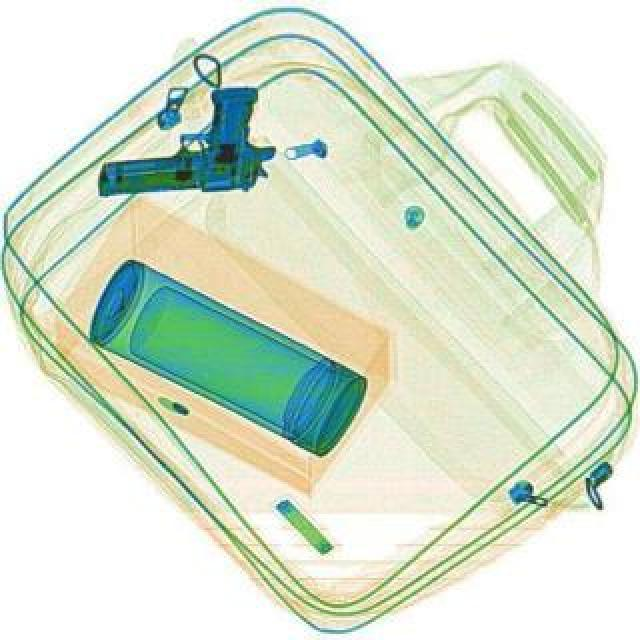gun: (86, 82, 278, 202)
